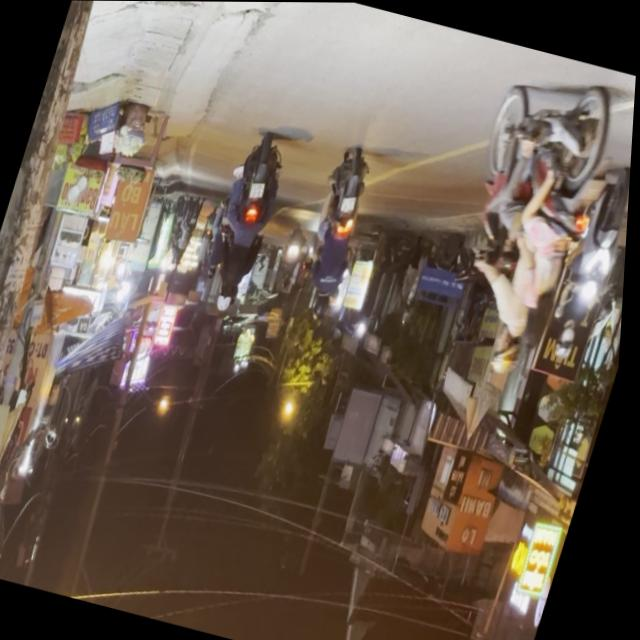helmet: (490, 324, 531, 378), (557, 322, 583, 360)
licenseplate: (422, 60, 636, 392), (544, 161, 633, 367)
motorcyclist: (521, 294, 560, 351)
